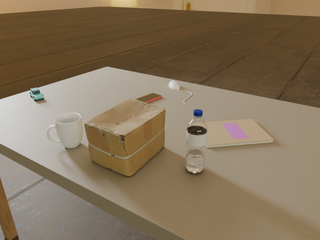book: (205, 119, 274, 148)
bottle: (185, 109, 207, 174)
box: (84, 99, 165, 176)
cup: (47, 113, 83, 148)
mouse: (169, 81, 180, 90)
phone: (135, 93, 162, 103)
toy_car: (30, 88, 44, 101)
